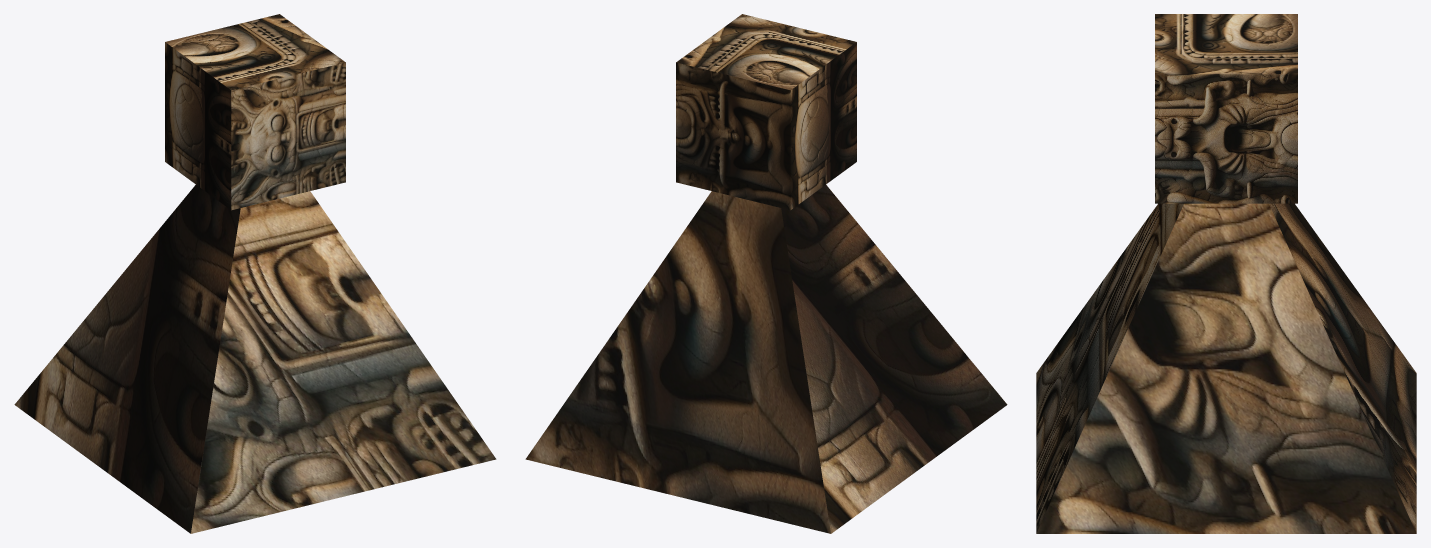
File: artifact6.gltf
3 renders of one model, left to right at view 1: azimuth 30°, elevation 25°; view 2: azimuth 150°, elevation 25°; view 3: azimuth 270°, elevation 25°, orthographic. The views are drawn at different scales.
Visible parts, largest first — view 1: Cube, Cube.001; view 2: Cube, Cube.001; view 3: Cube, Cube.001.
Part boxes in pixels (x1,y1,x2,y2): Cube: (14, 185, 496, 533); Cube.001: (165, 14, 345, 210); Cube: (525, 185, 1007, 533); Cube.001: (676, 14, 856, 210); Cube: (1036, 203, 1416, 533); Cube.001: (1155, 14, 1297, 203).
Bounding box in the file's own units: 2 × 2.38 × 2.
1 material, 1 textured.
